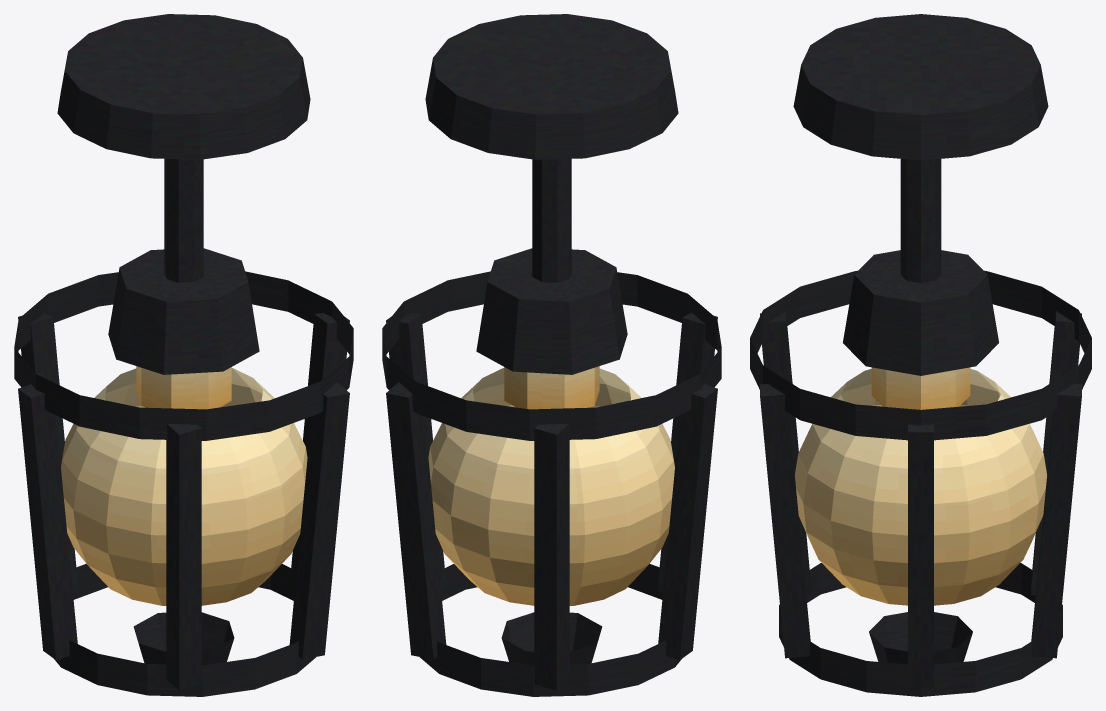
Rendered from pendant_caged_edison.obj.
3 views of the same model, side by side, from view 1: azimuth 30°, elevation 25°; view 2: azimuth 150°, elevation 25°; view 3: azimuth 270°, elevation 25° (orthographic).
Visible parts, largest first — view 1: pendant_caged_edison; view 2: pendant_caged_edison; view 3: pendant_caged_edison.
Boxes of the visible parts, x1,y1,x2,y2 form: pendant_caged_edison: (14,14,353,696); pendant_caged_edison: (382,14,721,696); pendant_caged_edison: (750,14,1091,696).
Bounding box in the file's own units: 0.3967 × 0.7188 × 0.3687.
